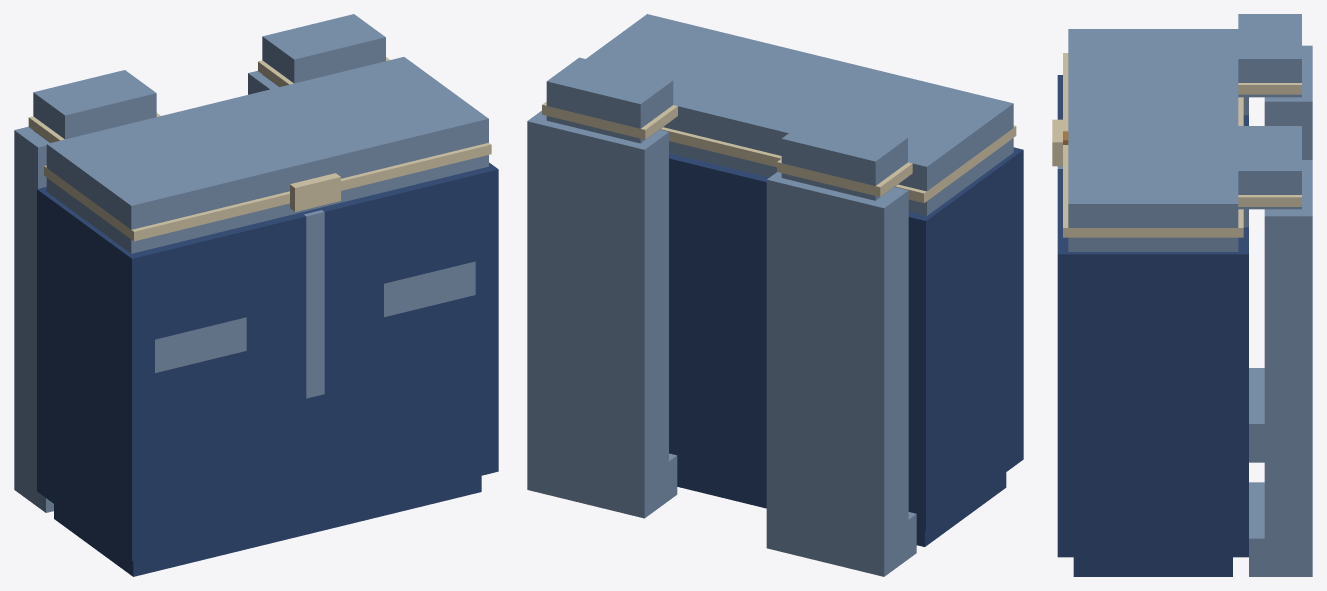
The model's file is makeshift_knapsack.glb.
3 views of the same model, side by side, from view 1: azimuth 30°, elevation 25°; view 2: azimuth 150°, elevation 25°; view 3: azimuth 270°, elevation 25° (orthographic). The views are drawn at different scales.
Visible parts, largest first — view 1: makeshift_knapsack:compound; view 2: makeshift_knapsack:compound; view 3: makeshift_knapsack:compound.
Boxes of the visible parts, bbox=[...] form: makeshift_knapsack:compound: bbox=[14, 14, 498, 576]; makeshift_knapsack:compound: bbox=[527, 14, 1023, 576]; makeshift_knapsack:compound: bbox=[1052, 14, 1312, 576].
Bounding box in the file's own units: 0.32 × 0.332 × 0.196.
